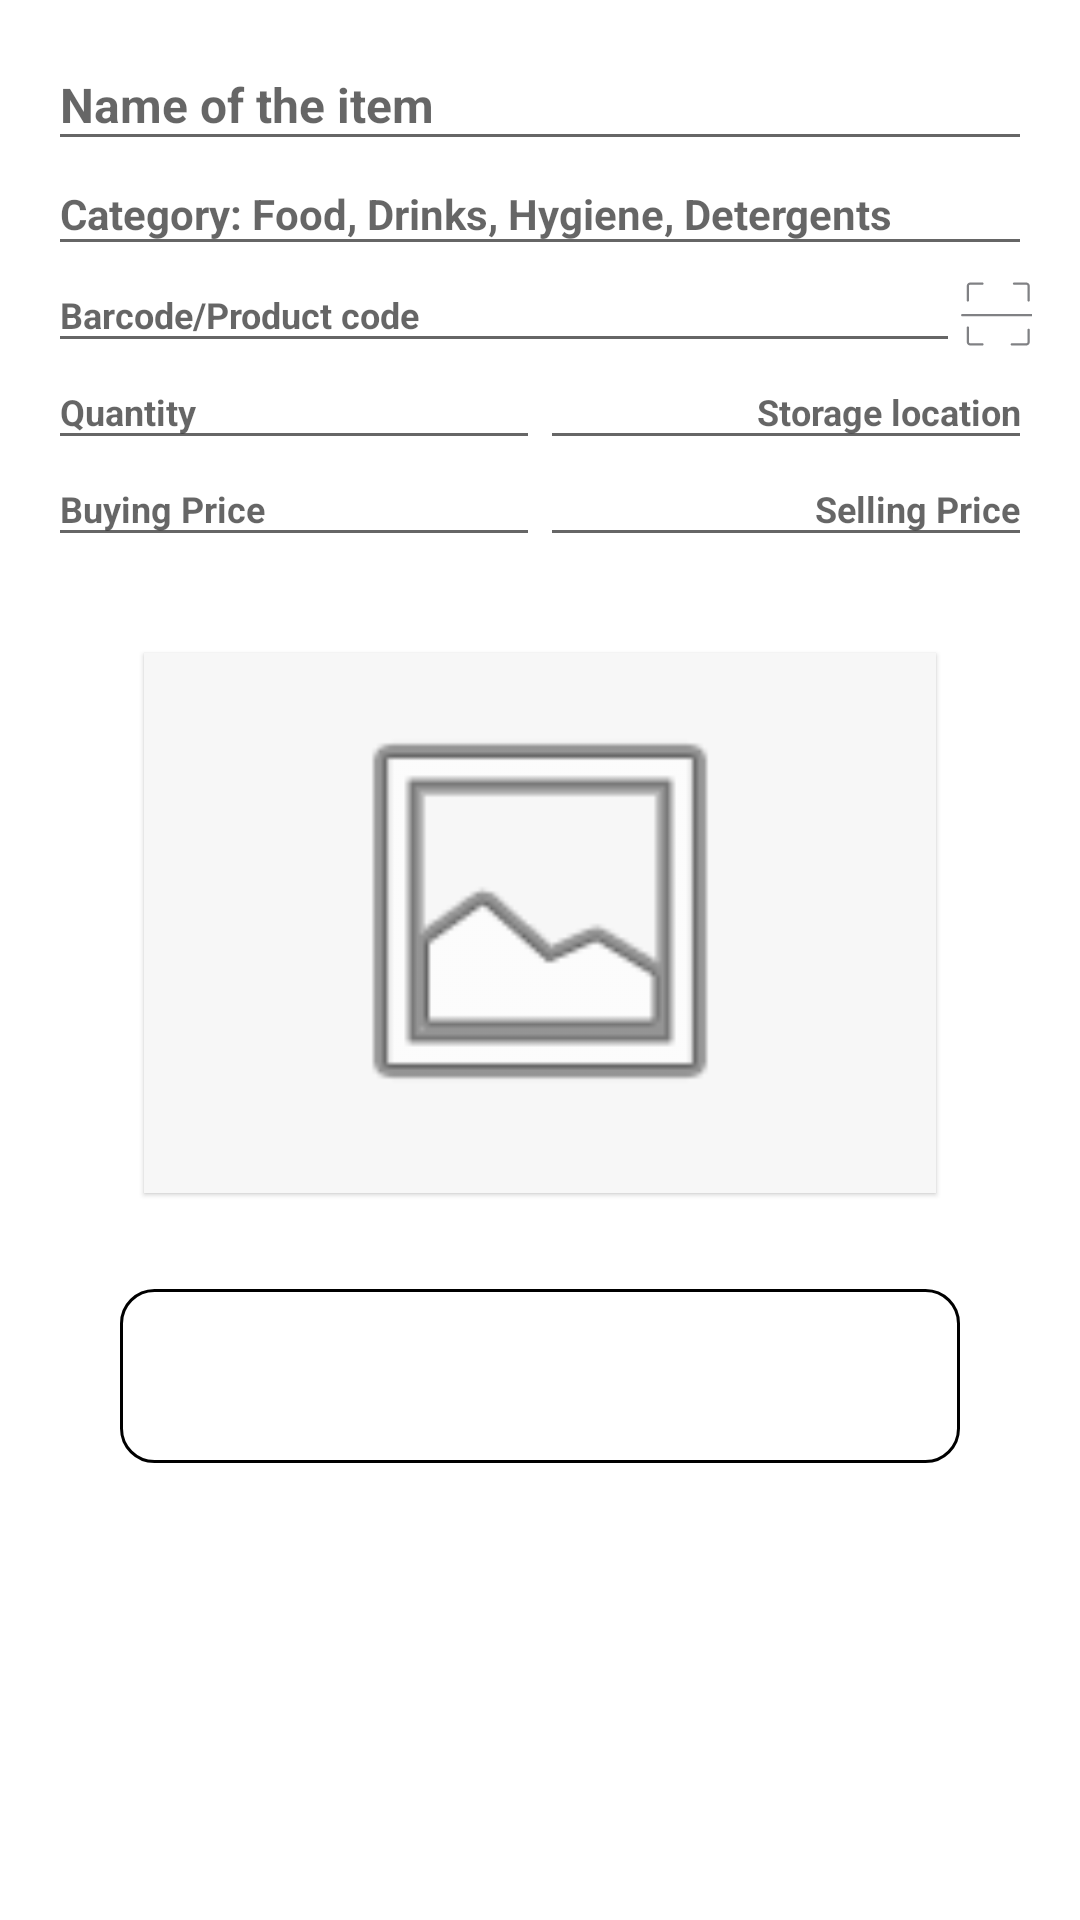

Icon bounding boxes for this 1080*1920 phone screenshot, format Rect(x1, y1, x2, y2):
gallery: Rect(372, 743, 708, 1079)
